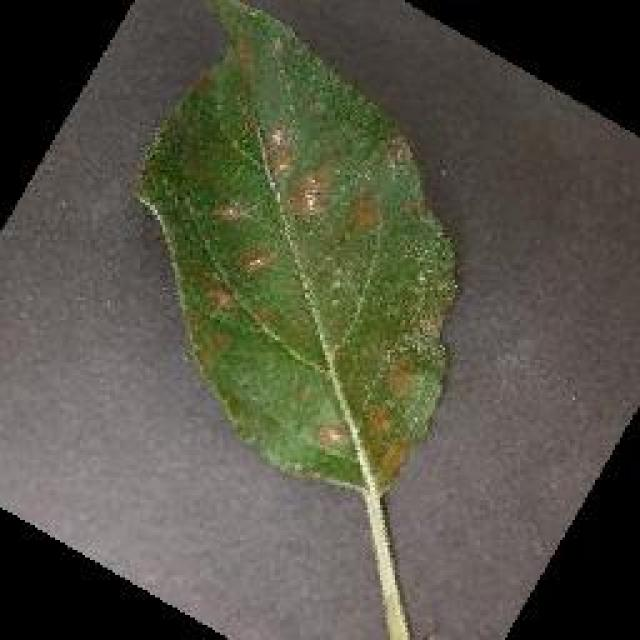apple healthy: (132, 0, 460, 500)
